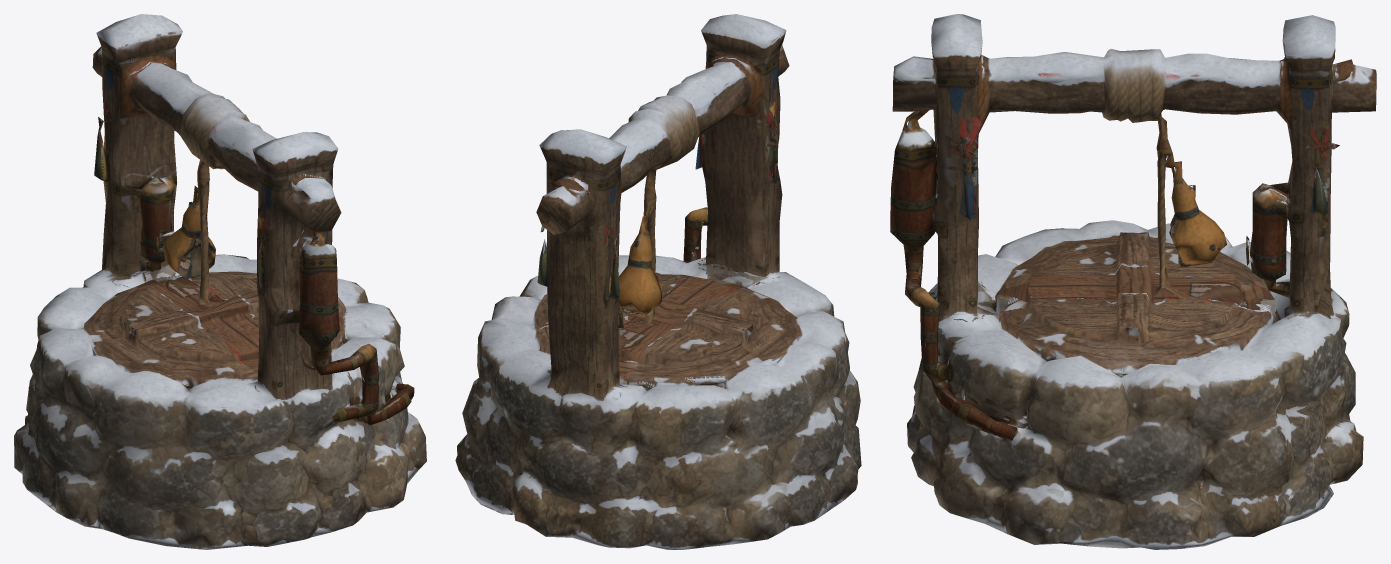
Rendered from PR_Well.fbx.
3 renders of one model, left to right at view 1: azimuth 30°, elevation 25°; view 2: azimuth 150°, elevation 25°; view 3: azimuth 270°, elevation 25°, orthographic. The views are drawn at different scales.
Parts seen in each view (by area): view 1: texture_mapping; view 2: texture_mapping; view 3: texture_mapping.
Boxes of the visible parts, x1=… form: texture_mapping: x1=14, y1=14, x2=426, y2=549; texture_mapping: x1=455, y1=14, x2=861, y2=549; texture_mapping: x1=890, y1=14, x2=1376, y2=549.
Bounding box in the file's own units: 0.9181 × 0.9985 × 0.9992.
Materials: 1 (1 with a texture image).
